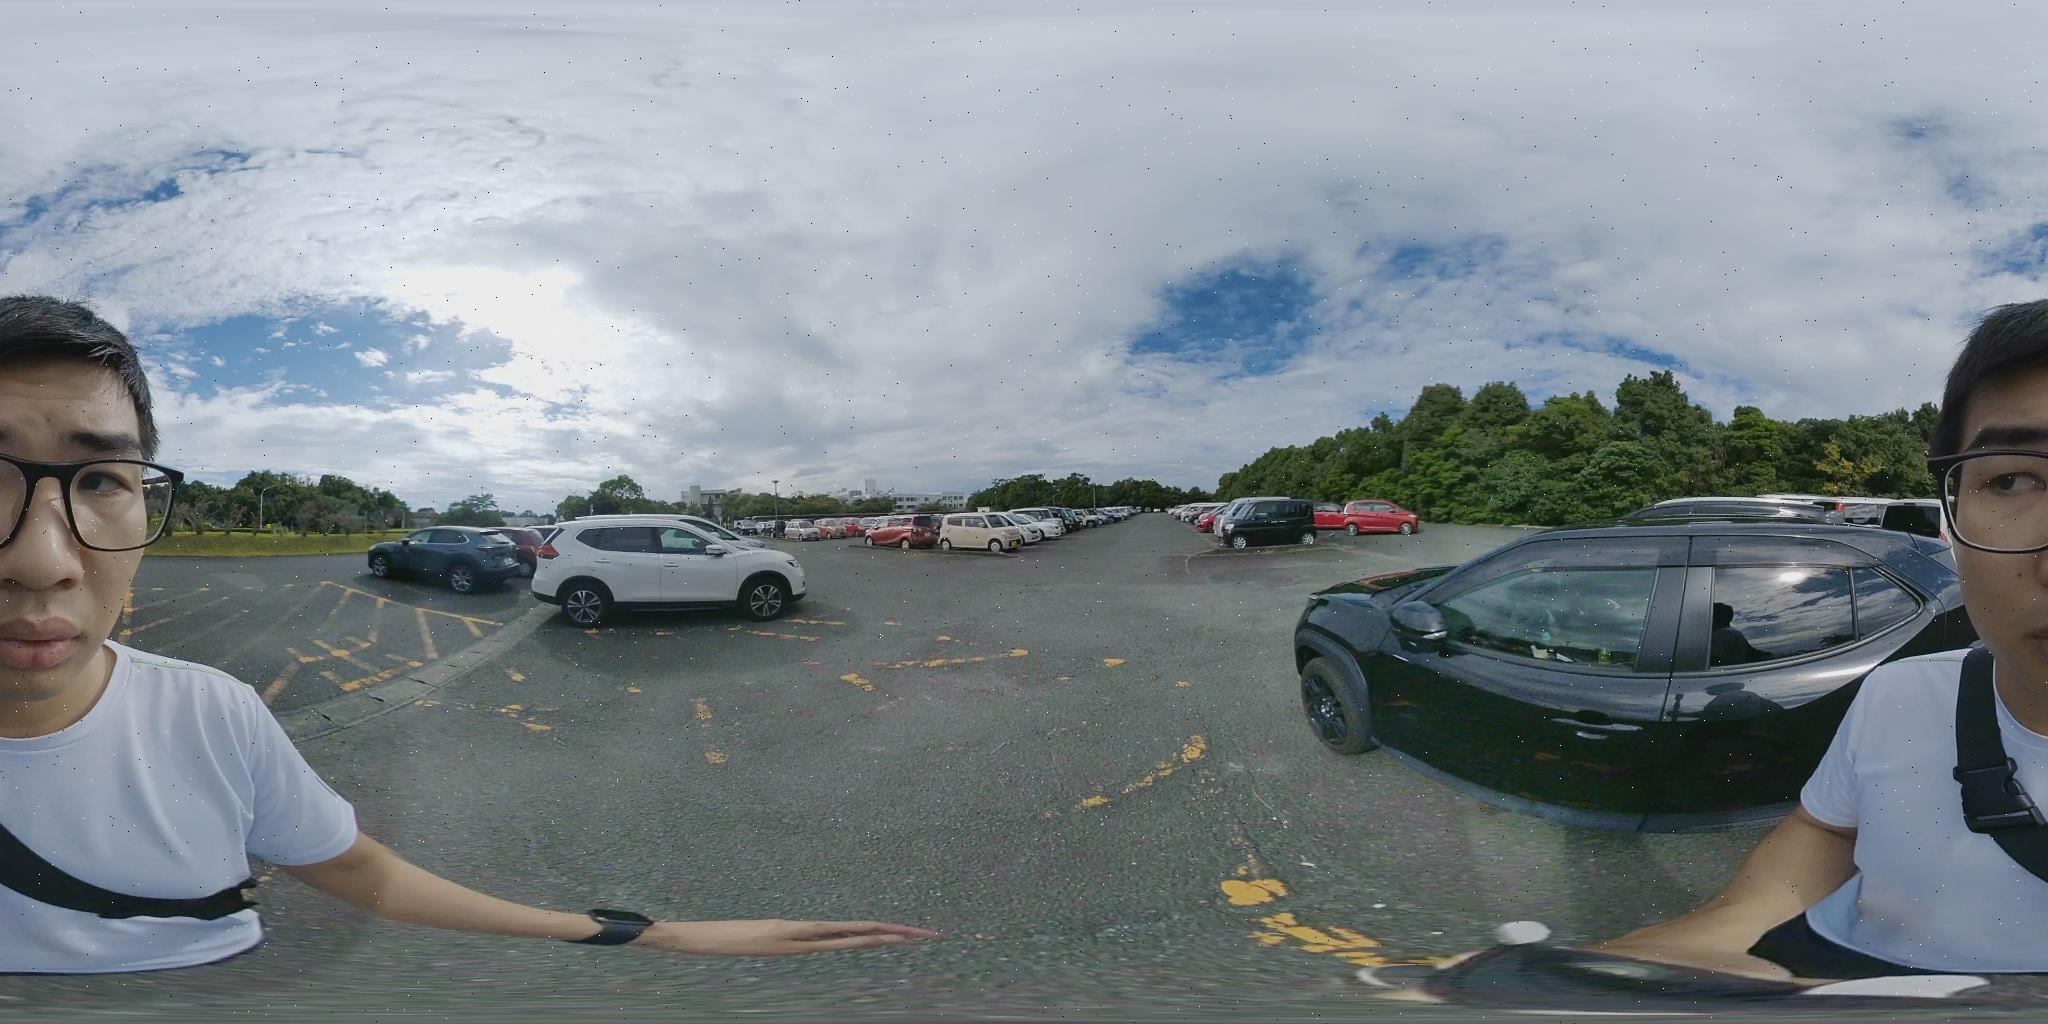car: (1289, 517, 1985, 797), (522, 513, 822, 630), (363, 525, 549, 593), (1629, 495, 1899, 529), (865, 511, 1048, 551), (1200, 500, 1328, 546), (1328, 499, 1428, 534), (866, 520, 946, 550), (1003, 512, 1064, 543), (1027, 505, 1093, 528), (1011, 505, 1068, 530), (818, 520, 879, 542), (731, 519, 788, 539), (1178, 503, 1226, 526), (1080, 505, 1138, 524), (808, 517, 861, 537), (782, 521, 833, 541), (1067, 508, 1118, 526)
